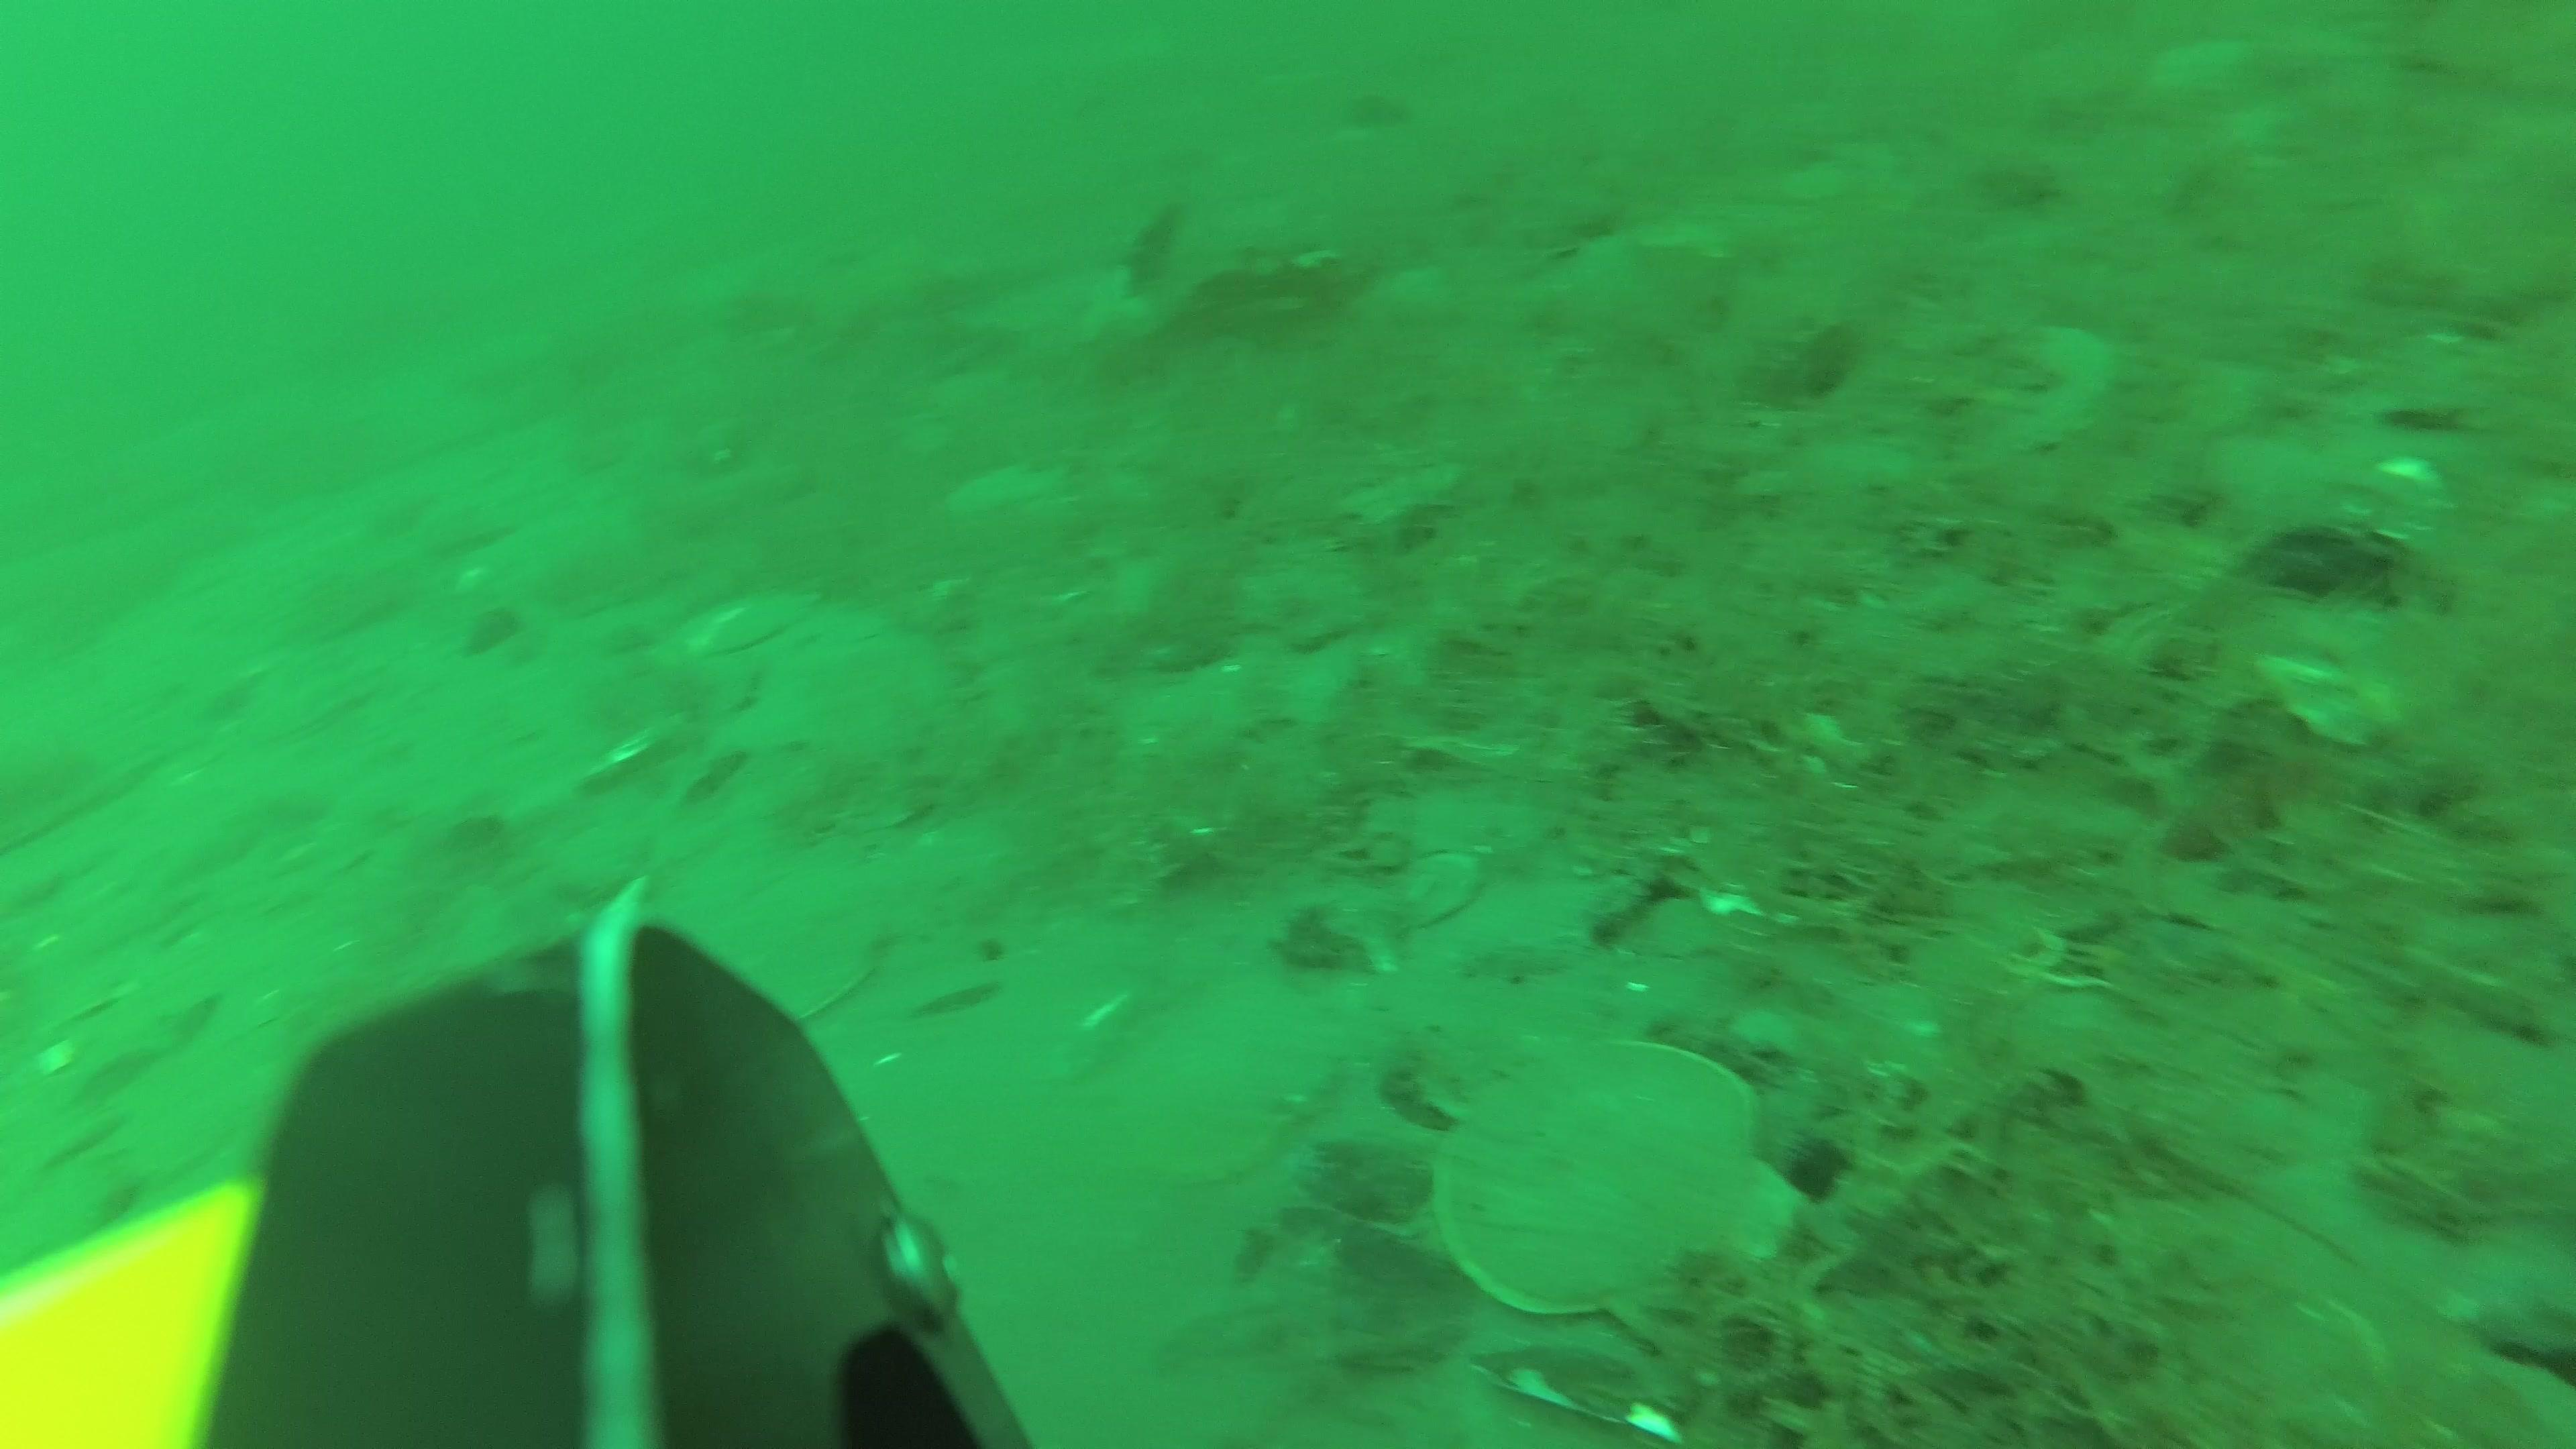scallop: (1445, 1031, 1798, 1350), (1139, 996, 1338, 1178), (690, 890, 885, 1035), (1951, 320, 2107, 462), (667, 586, 816, 656)
